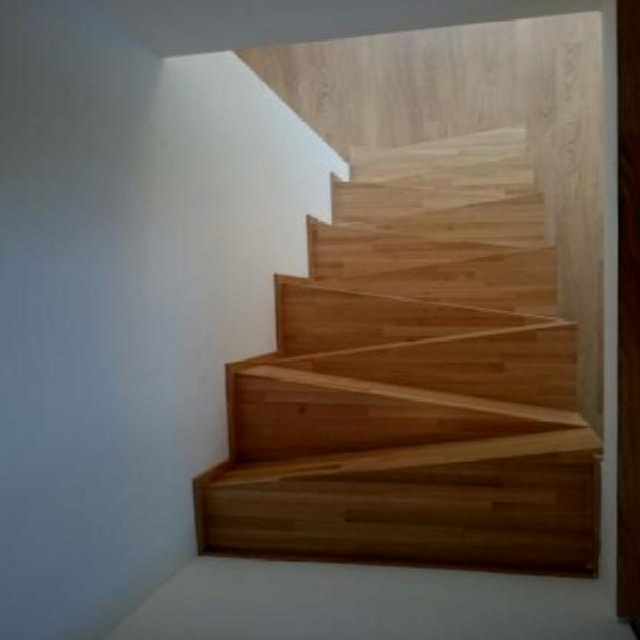stair: (168, 99, 578, 565)
